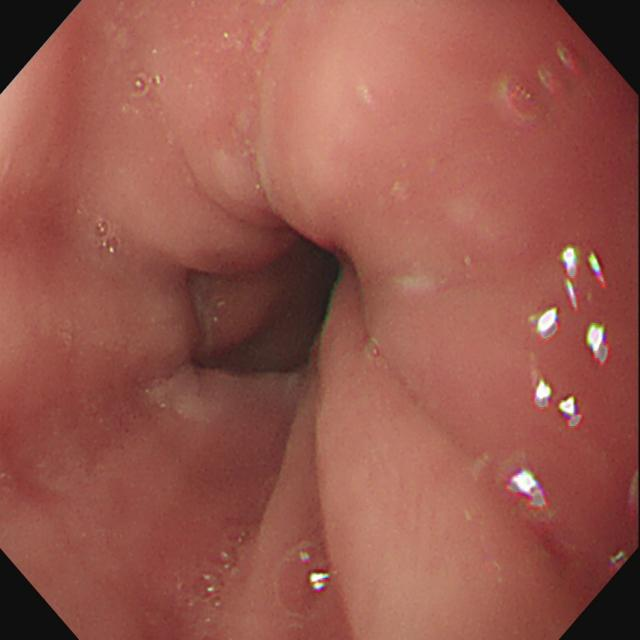E: (203, 225, 355, 383)
T: (95, 219, 121, 258), (131, 73, 165, 96)
U: (507, 469, 549, 509), (562, 246, 582, 313), (528, 306, 562, 345), (586, 324, 610, 367), (560, 396, 584, 428), (534, 379, 554, 412), (591, 254, 609, 290), (309, 571, 331, 595)
